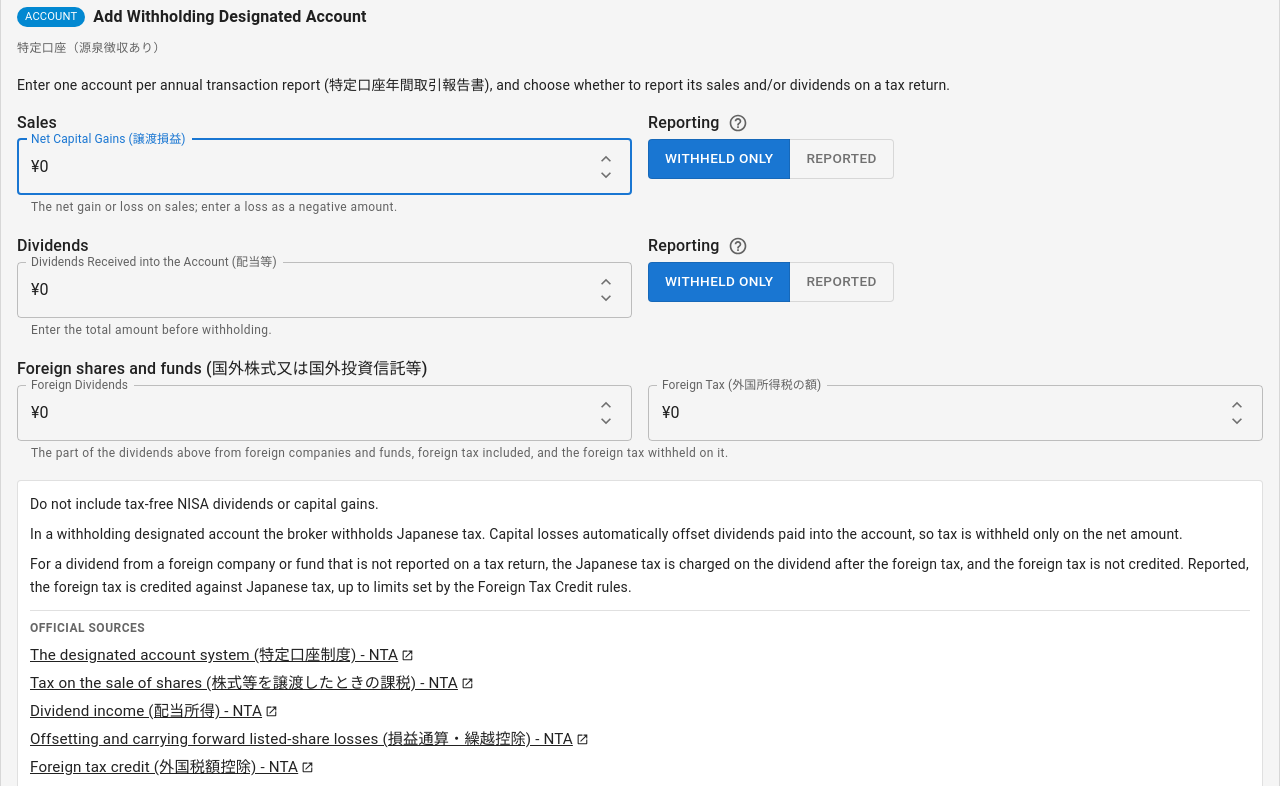
Test: IncomeStreamForm foreign tax › shows an account's foreign-figure error under its own group, and does not save
The width and height of the screenshot is (1280, 786).
Replace the text in the field labelled "Dividends Received into the Account (配当等)" with "¥300,000" at coordinates (302, 290), box [17,262,586,318]
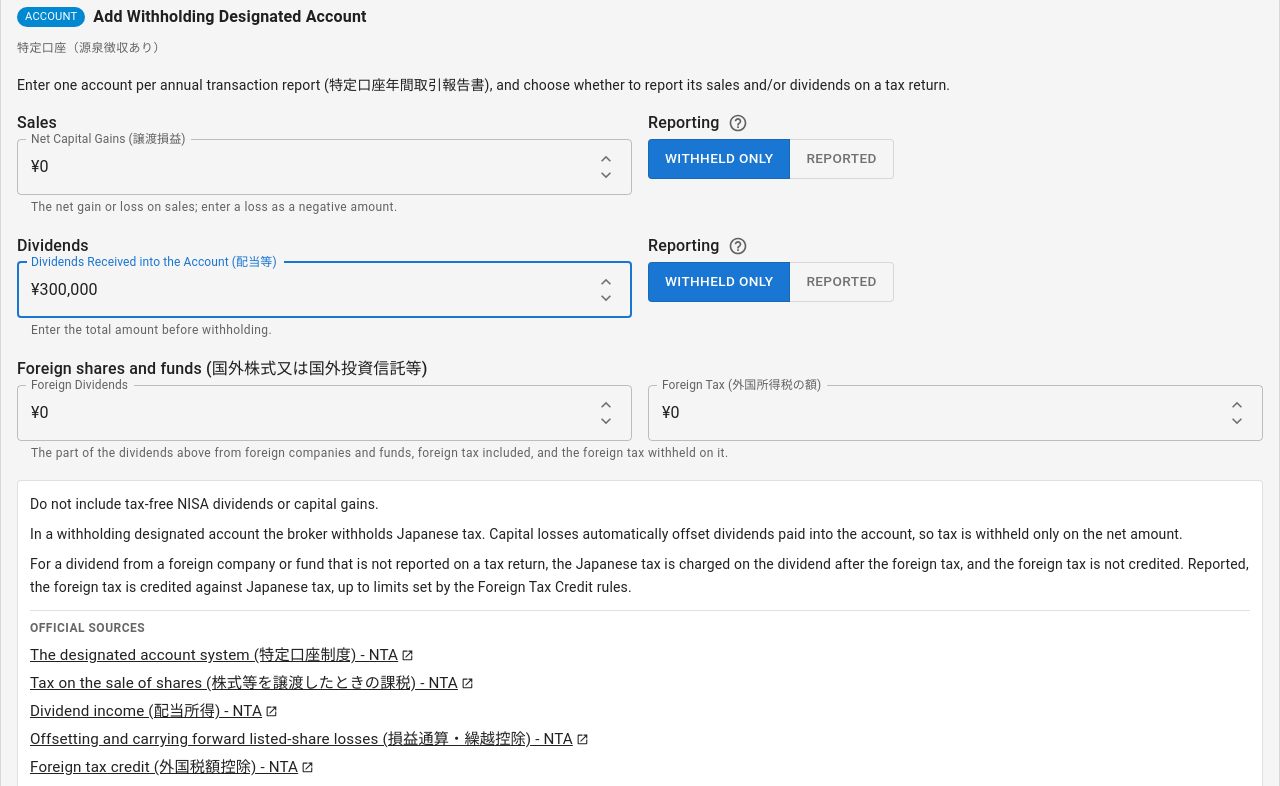
Replace the text in the field labelled "Foreign Dividends" with "¥500,000" at coordinates (302, 413), box [17,385,586,441]
(page scrolled)
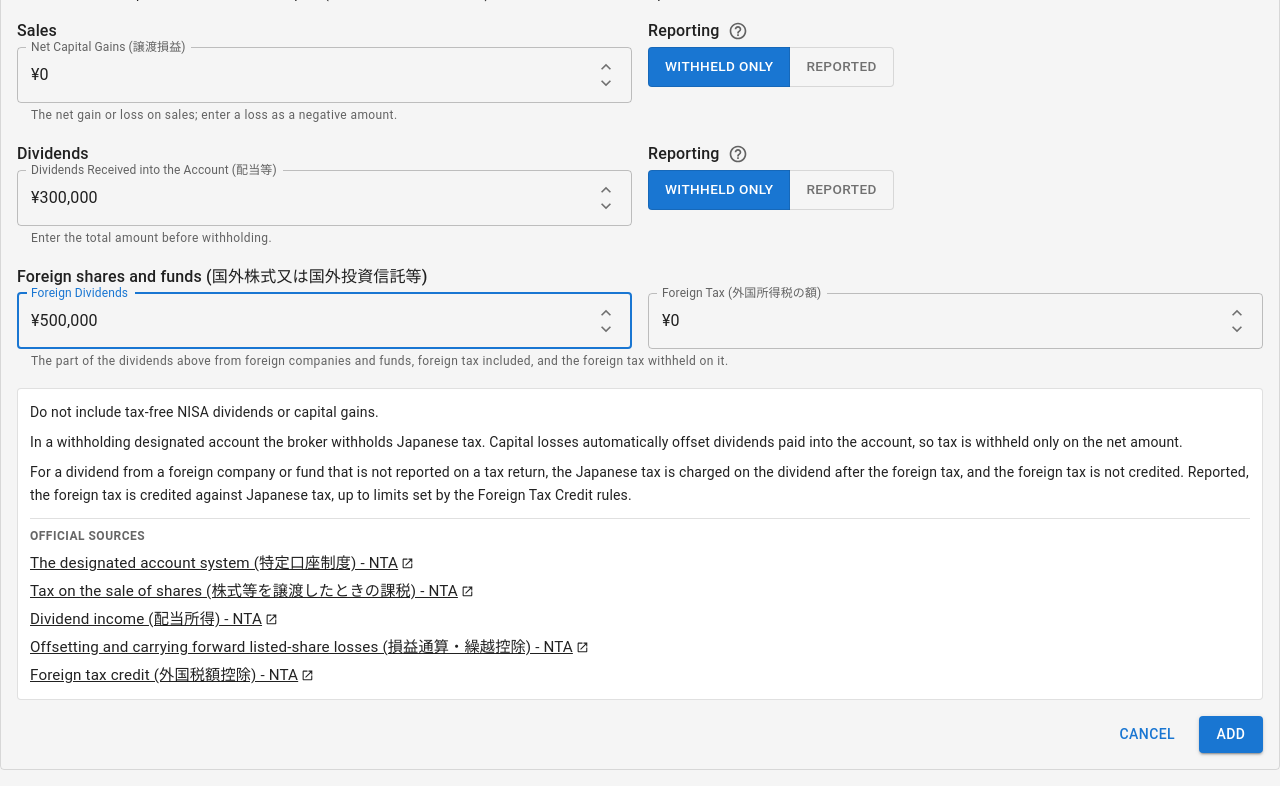
Click the button "Add" at coordinates (1231, 734), box [1199,716,1263,753]
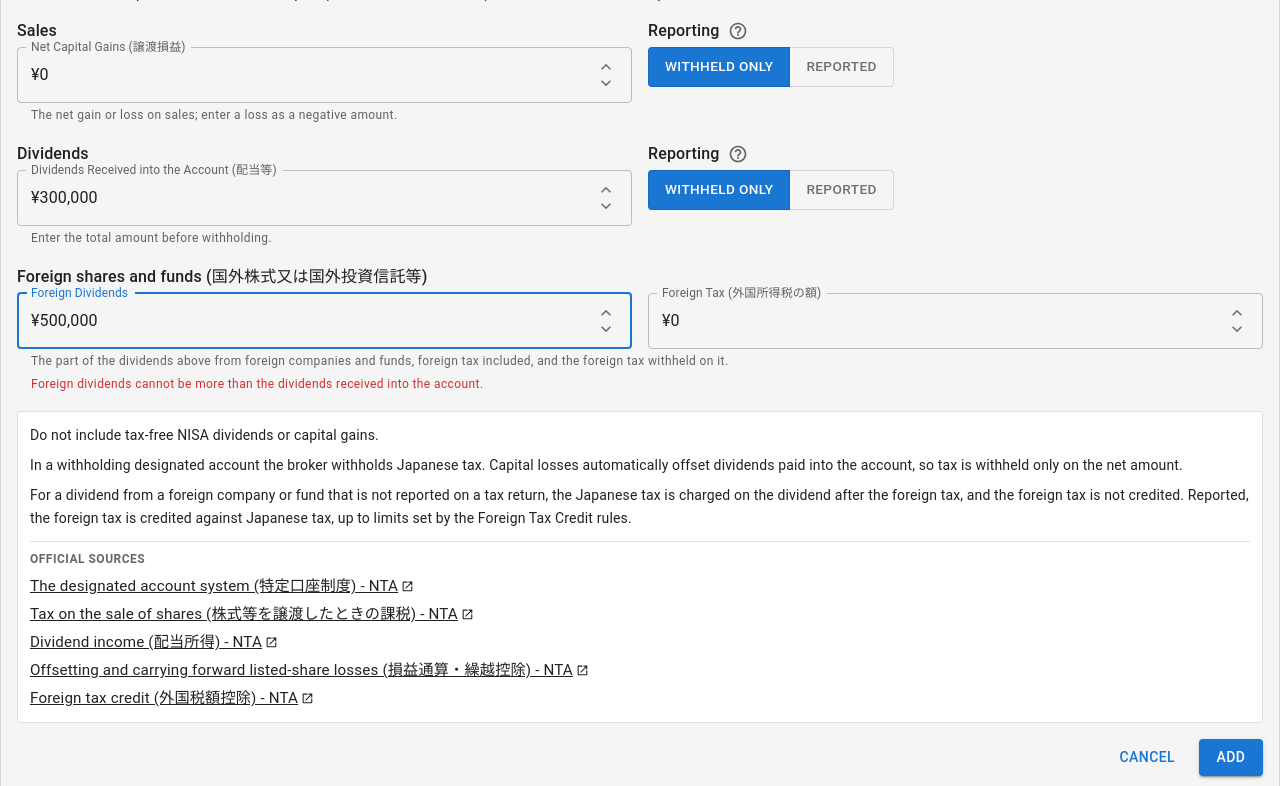
Now the text "Foreign dividends cannot be more than the dividends received into the account." is shown, box [31,377,484,391]
